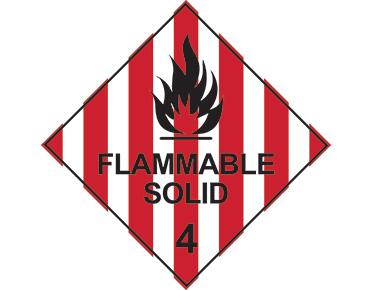FlammableSolid: (66, 13, 305, 255)
